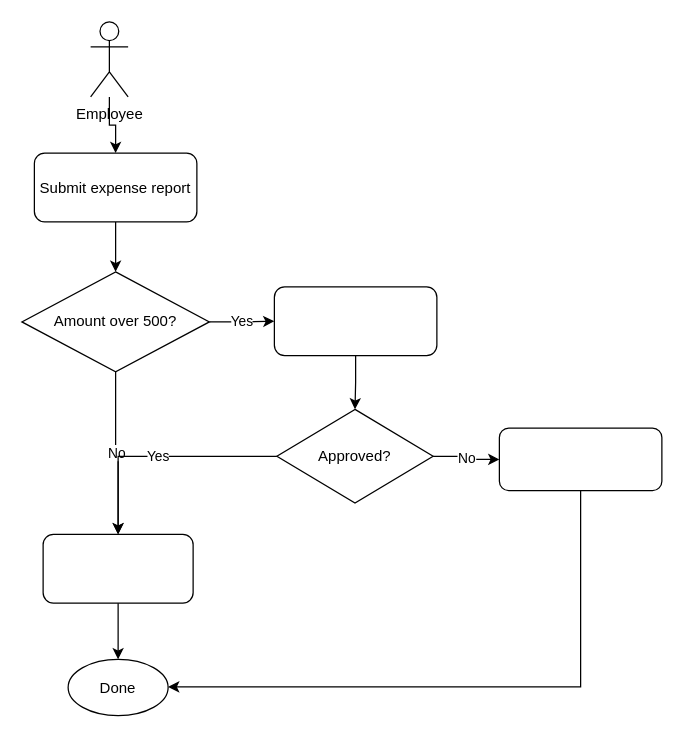
This 684x738 diagram has some shape labels left out. Each missing label, with the box of its shape:
Finance pays out: (42, 533, 193, 603)
Manager approves: (273, 286, 437, 356)
Notify rejection: (498, 427, 662, 491)
